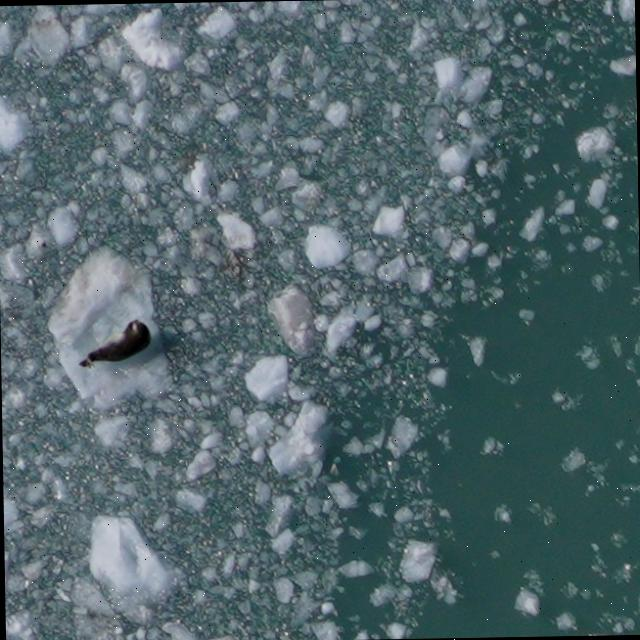seal: (72, 314, 156, 371)
